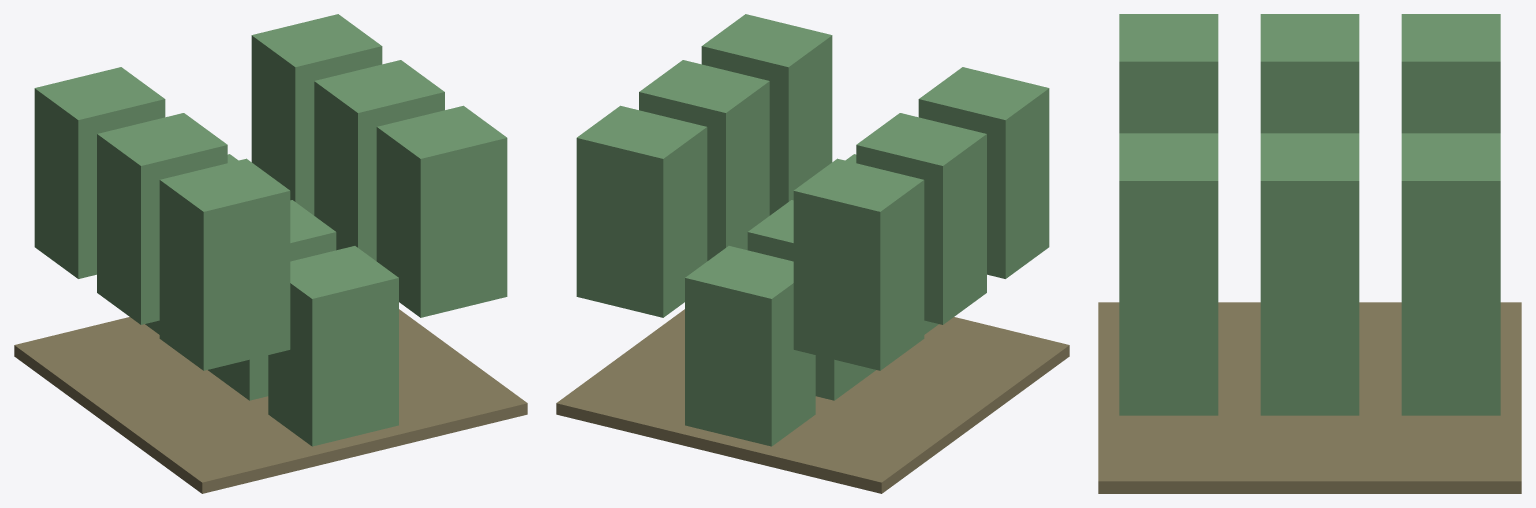
Rendered from undergrowth.glb.
3 renders of one model, left to right at view 1: azimuth 30°, elevation 25°; view 2: azimuth 150°, elevation 25°; view 3: azimuth 270°, elevation 25°, orthographic. The views are drawn at different scales.
Size of the model in its own units: 1.5 by 1.2 by 1.5.
